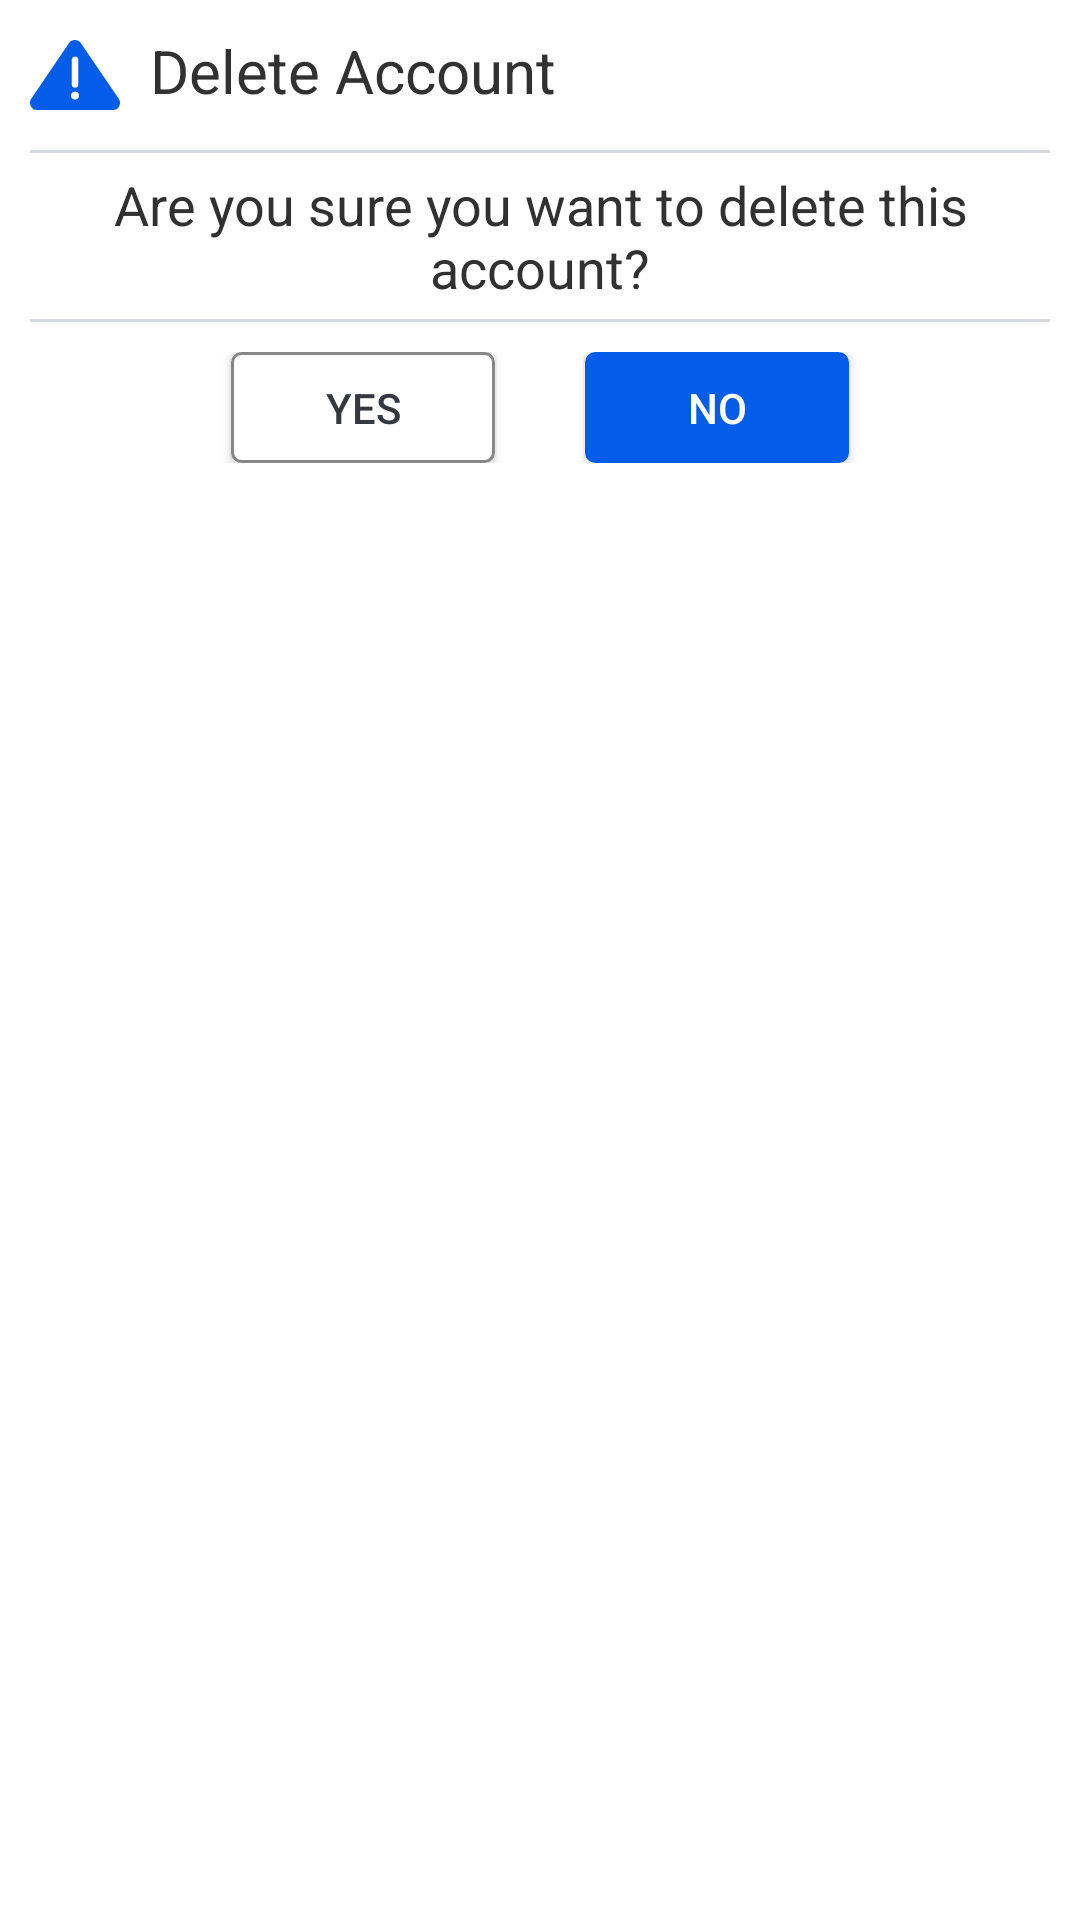

Locate icon controls on the screen. Image size 1080px×1920px, boxes as {"x1": x1, "y1": y1, "x2": x2, "y2": y2}.
Alert Icon: {"x1": 30, "y1": 40, "x2": 120, "y2": 110}
